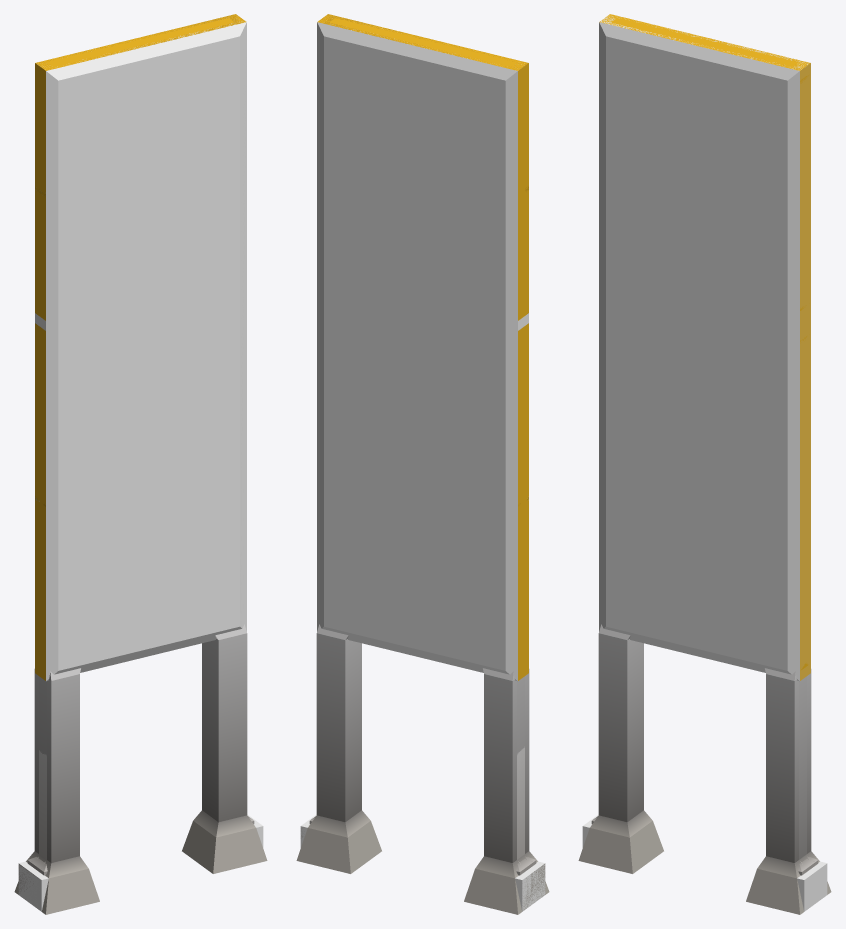
The model's file is s_fuel_sign_trilobite.dae.
The picture shows the model from 3 angles, left to right: view 1: azimuth 30°, elevation 25°; view 2: azimuth 150°, elevation 25°; view 3: azimuth 330°, elevation 25°; orthographic projection.
Visible parts, largest first — view 1: Colmesh_s_fuel_sign_trilobite-1, s_fuel_sign_trilobite_L1000, s_fuel_sign_trilobite_L200, s_fuel_sign_trilobite_L100, s_fuel_sign_trilobite_L30; view 2: Colmesh_s_fuel_sign_trilobite-1, s_fuel_sign_trilobite_L1000, s_fuel_sign_trilobite_L200, s_fuel_sign_trilobite_L100, s_fuel_sign_trilobite_L30; view 3: Colmesh_s_fuel_sign_trilobite-1, s_fuel_sign_trilobite_L30, s_fuel_sign_trilobite_L200, s_fuel_sign_trilobite_L1000.
Part boxes in pixels (x1,y1,x2,y2): Colmesh_s_fuel_sign_trilobite-1: (14, 21, 267, 914); s_fuel_sign_trilobite_L1000: (19, 15, 262, 909); s_fuel_sign_trilobite_L200: (18, 14, 263, 911); s_fuel_sign_trilobite_L100: (18, 14, 253, 893); s_fuel_sign_trilobite_L30: (36, 15, 238, 755); Colmesh_s_fuel_sign_trilobite-1: (296, 22, 549, 914); s_fuel_sign_trilobite_L1000: (301, 15, 544, 906); s_fuel_sign_trilobite_L200: (300, 14, 545, 911); s_fuel_sign_trilobite_L100: (300, 14, 545, 911); s_fuel_sign_trilobite_L30: (324, 14, 524, 754); Colmesh_s_fuel_sign_trilobite-1: (578, 15, 831, 914); s_fuel_sign_trilobite_L30: (600, 16, 810, 859); s_fuel_sign_trilobite_L200: (582, 14, 827, 911); s_fuel_sign_trilobite_L1000: (583, 15, 818, 906).
Bounding box in the file's own units: 4.64 × 1.14 × 16.67.
